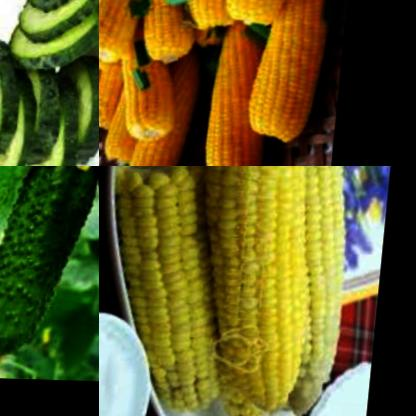corn: (102, 166, 258, 416), (189, 166, 334, 409), (258, 166, 374, 416), (252, 0, 337, 145), (197, 22, 274, 166), (105, 41, 191, 148), (131, 49, 205, 166), (127, 0, 201, 69), (99, 0, 148, 71), (99, 56, 111, 144)
cucumber: (0, 166, 99, 378), (0, 27, 99, 166), (3, 0, 99, 67)
